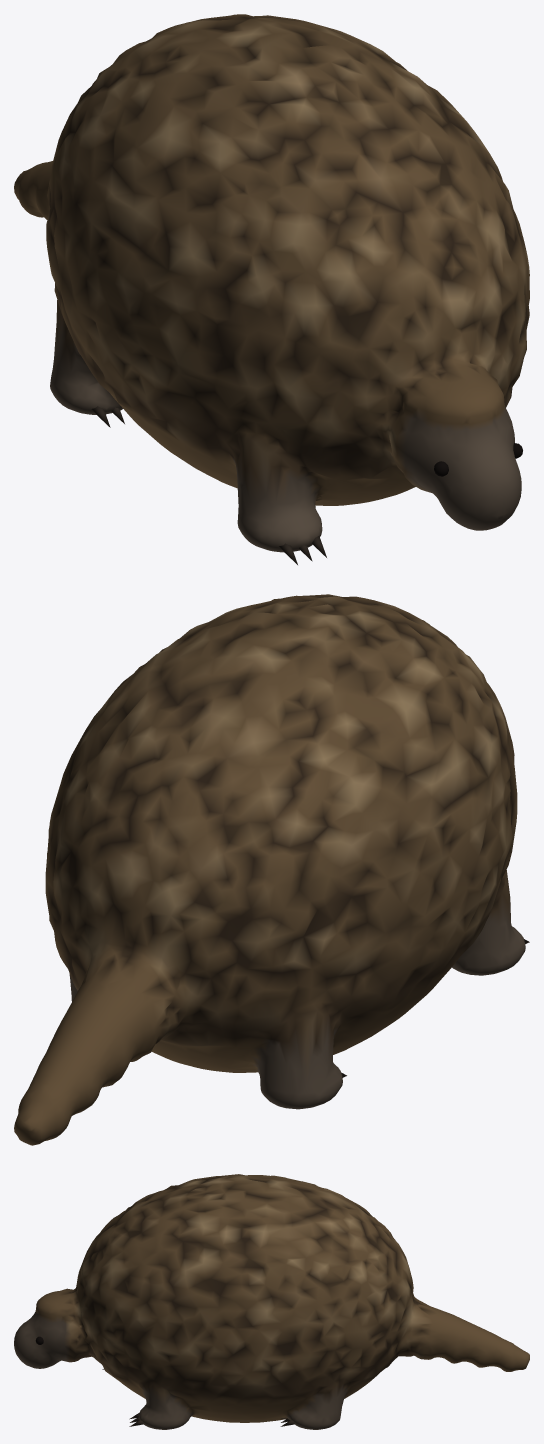
File: GlyptodonClavipes.fbx
The picture shows the model from 3 angles, top to bottom: view 1: azimuth 30°, elevation 25°; view 2: azimuth 150°, elevation 25°; view 3: azimuth 270°, elevation 25°; orthographic projection. The views are drawn at different scales.
Parts seen in each view (by area): view 1: GlyptodonClavipes; view 2: GlyptodonClavipes; view 3: GlyptodonClavipes.
Boxes of the visible parts, x1,y1,x2,y2 form: GlyptodonClavipes: (14, 14, 529, 564); GlyptodonClavipes: (14, 594, 529, 1145); GlyptodonClavipes: (14, 1174, 529, 1429).
Size of the model in its own units: 0.854 by 0.9347 by 1.91.
